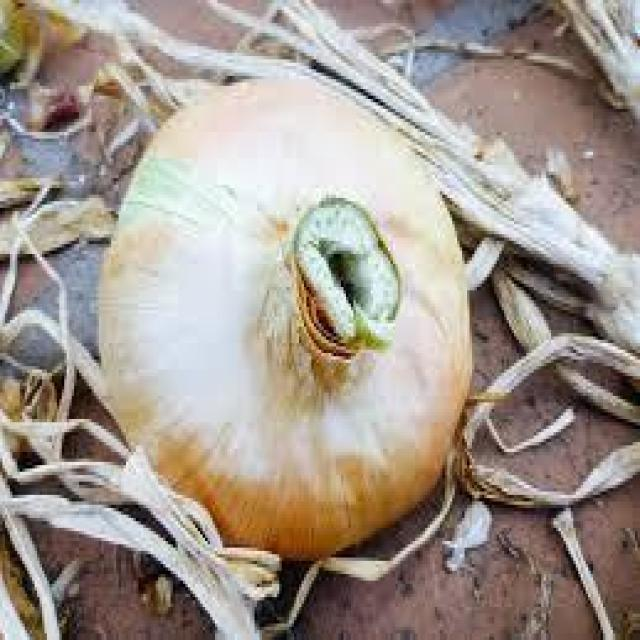Onion: (109, 76, 474, 561)
